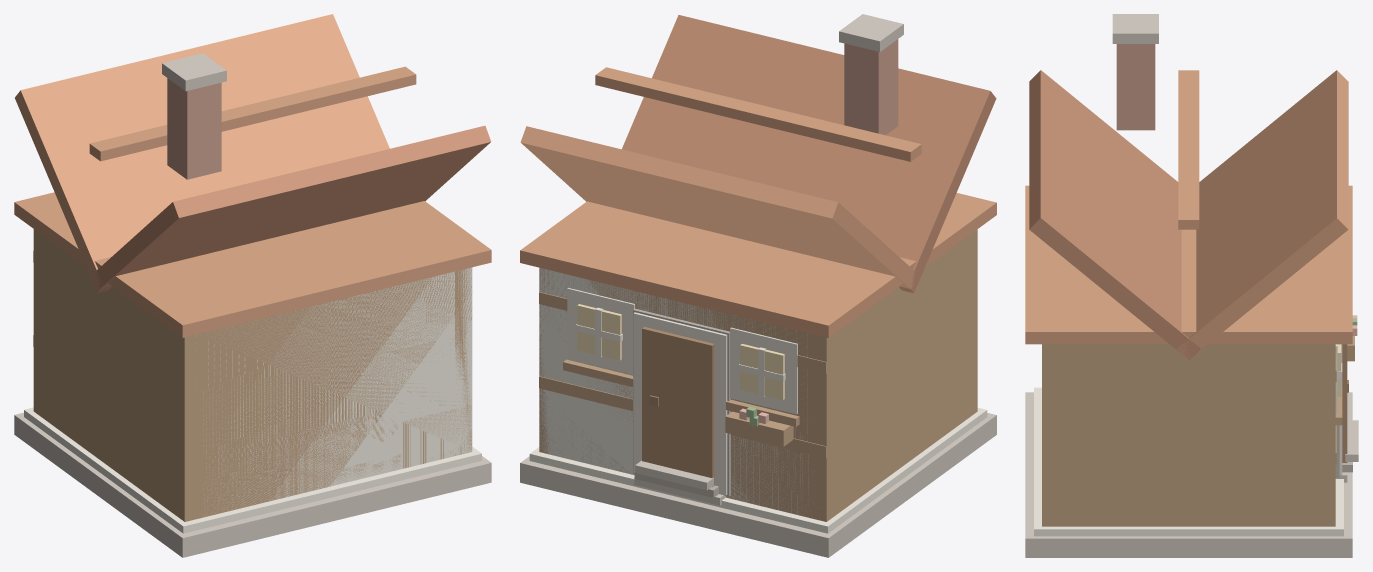
File: vn_building_hero_house.glb
The picture shows the model from 3 angles, left to right: view 1: azimuth 30°, elevation 25°; view 2: azimuth 150°, elevation 25°; view 3: azimuth 270°, elevation 25°; orthographic projection. The views are drawn at different scales.
Visible parts, largest first — view 1: timber_north, roof_slope_south, walls_core, timber_west, roof_eave_ring, roof_slope_north, foundation, plinth, roof_ridge_cap, chimney_stack, chimney_cap, timber_east; view 2: roof_slope_north, timber_west, roof_eave_ring, roof_slope_south, walls_core, timber_south, foundation, door_panel, roof_ridge_cap, plinth, chimney_stack, door_frame (+15 smaller); view 3: timber_east, roof_slope_north, roof_slope_south, roof_eave_ring, foundation, plinth, roof_ridge_cap, chimney_stack, chimney_cap, door_panel, door_step_2.
Part boxes in pixels (box(x1,y1,x2,y2)): timber_north: box(180, 268, 472, 521); roof_slope_south: box(15, 14, 389, 292); walls_core: box(196, 267, 472, 516); timber_west: box(33, 229, 201, 521); roof_eave_ring: box(14, 192, 491, 337); roof_slope_north: box(94, 125, 491, 292); foundation: box(14, 412, 491, 557); plinth: box(24, 407, 481, 533); roof_ridge_cap: box(89, 66, 416, 161); chimney_stack: box(167, 78, 221, 179); chimney_cap: box(162, 53, 226, 91); timber_east: box(455, 268, 472, 453); roof_slope_north: box(622, 15, 996, 293); timber_west: box(809, 229, 977, 521); roof_eave_ring: box(520, 193, 996, 337); roof_slope_south: box(520, 126, 916, 292); walls_core: box(539, 268, 813, 516); timber_south: box(542, 274, 836, 521); foundation: box(520, 413, 996, 557); door_panel: box(642, 327, 714, 486); roof_ridge_cap: box(595, 67, 921, 161); plinth: box(529, 407, 987, 533); chimney_stack: box(844, 39, 898, 135); door_frame: box(633, 312, 727, 495); timber_east: box(1042, 344, 1335, 526); roof_slope_north: box(1029, 70, 1200, 360); roof_slope_south: box(1177, 70, 1348, 360); roof_eave_ring: box(1025, 185, 1352, 344); foundation: box(1025, 392, 1352, 557); plinth: box(1034, 387, 1343, 536); roof_ridge_cap: box(1178, 70, 1199, 229); chimney_stack: box(1116, 44, 1155, 130); chimney_cap: box(1112, 14, 1158, 43); door_panel: box(1342, 344, 1347, 462); door_step_2: box(1345, 420, 1358, 461).
Size of the model in its own units: 3.68 by 4.82 by 3.47.
